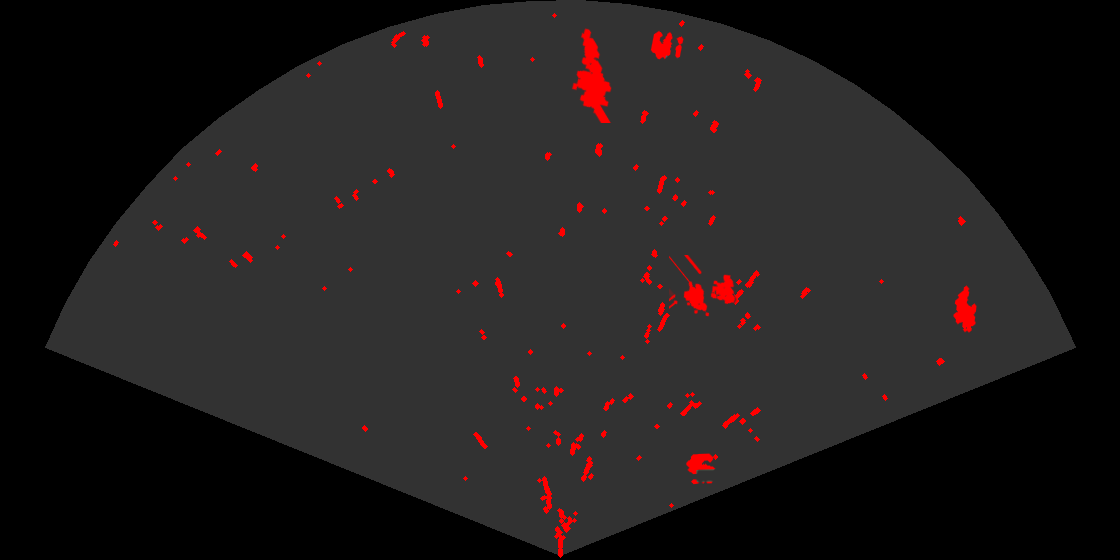AUV: (952, 284, 978, 334)
ball: (649, 29, 685, 61), (685, 452, 717, 486)
cage: (669, 255, 737, 318)
frogman: (570, 27, 613, 123)
